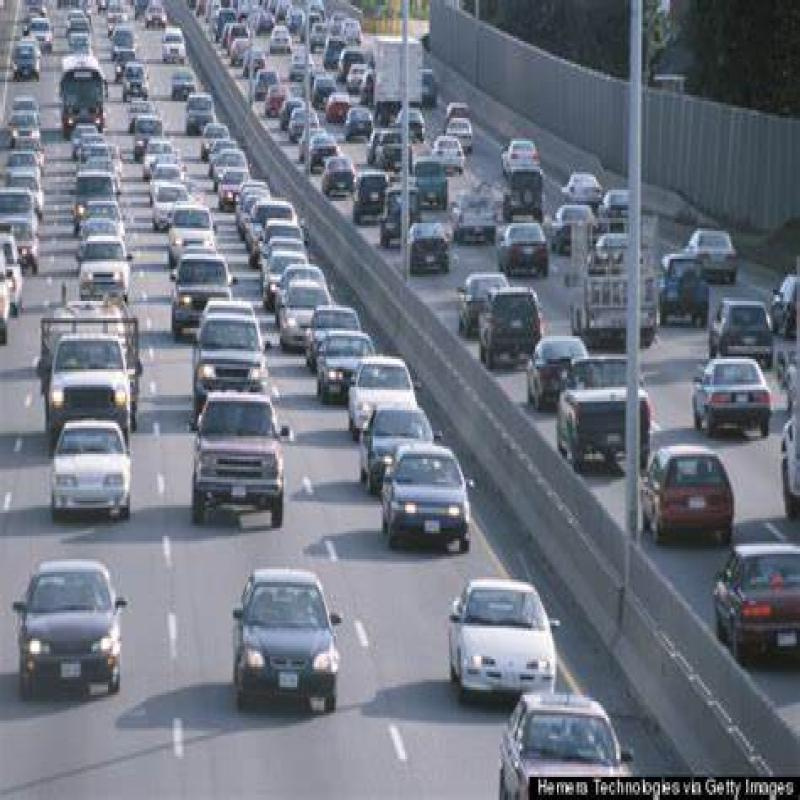car: (230, 558, 347, 710), (16, 545, 103, 700), (444, 578, 552, 696), (517, 705, 645, 798), (44, 342, 164, 426), (204, 389, 298, 496), (378, 446, 472, 548), (44, 421, 136, 517), (564, 352, 648, 457), (644, 434, 732, 527), (730, 539, 800, 646), (195, 310, 270, 397), (361, 411, 449, 480), (474, 288, 542, 368), (694, 360, 772, 425), (165, 263, 239, 327), (662, 247, 716, 331), (308, 328, 374, 396), (70, 232, 132, 303), (355, 348, 423, 412), (280, 288, 336, 358), (494, 211, 561, 268), (408, 239, 471, 292), (536, 346, 585, 408), (309, 142, 363, 176), (78, 168, 114, 216)
